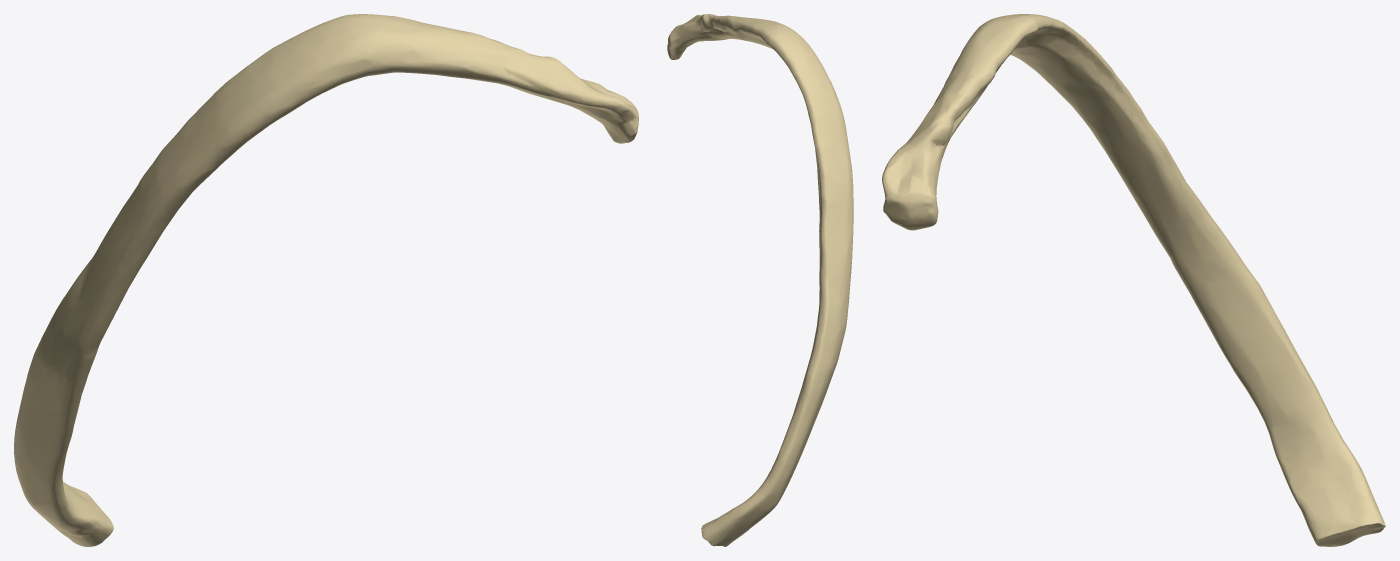
3 views of the same model, side by side, from view 1: azimuth 30°, elevation 25°; view 2: azimuth 150°, elevation 25°; view 3: azimuth 270°, elevation 25° (orthographic). The views are drawn at different scales.
Parts seen in each view (by area): view 1: 右侧第七肋; view 2: 右侧第七肋; view 3: 右侧第七肋.
Boxes of the visible parts, x1,y1,x2,y2 form: 右侧第七肋: (14, 14, 638, 546); 右侧第七肋: (667, 14, 853, 546); 右侧第七肋: (882, 14, 1385, 546).
Bounding box in the file's own units: 0.1844 × 0.2676 × 0.2127.
